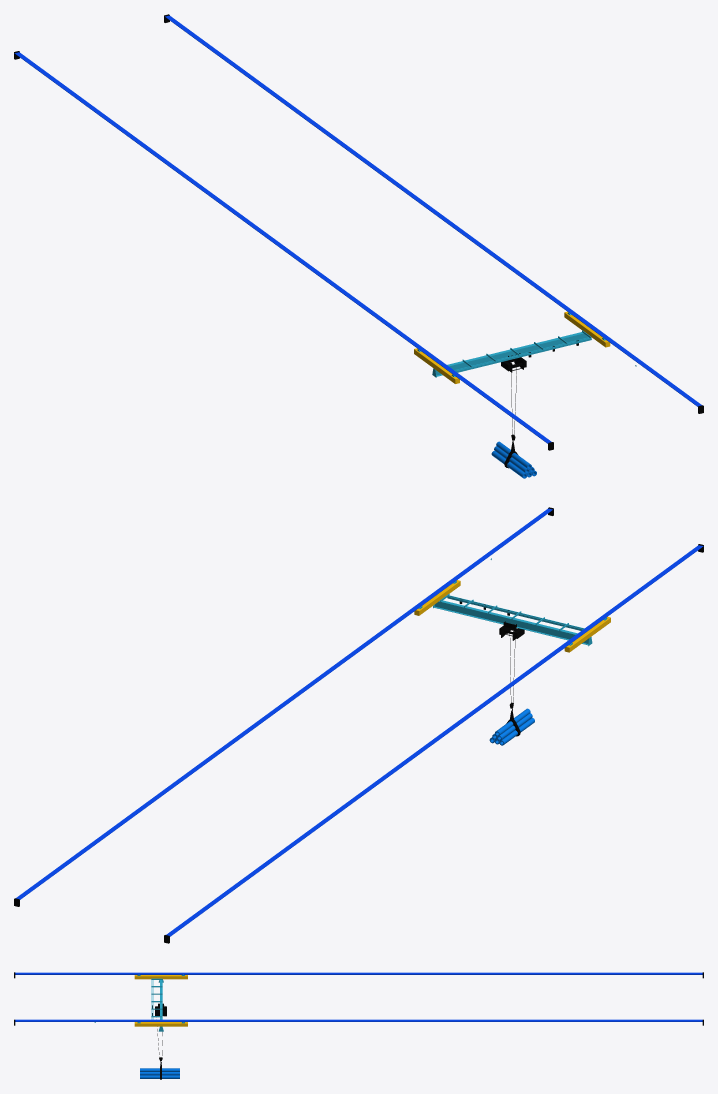
File: Crane_1Piece.fbx
The picture shows the model from 3 angles, top to bottom: view 1: azimuth 30°, elevation 25°; view 2: azimuth 150°, elevation 25°; view 3: azimuth 270°, elevation 25°; orthographic projection. The views are drawn at different scales.
Visible parts, largest first — view 1: Gentry Crane_02, Gentry Crane_11, Tube001; view 2: Gentry Crane_02, Gentry Crane_11, Tube001; view 3: Gentry Crane_02, Tube001, Gentry Crane_11, Gentry Crane_61, Gentry Crane_72.
Boxes of the visible parts, x1,y1,x2,y2 form: Gentry Crane_02: (14, 15, 701, 443); Gentry Crane_11: (432, 330, 591, 377); Tube001: (491, 441, 536, 478); Gentry Crane_02: (16, 508, 703, 936); Gentry Crane_11: (433, 594, 592, 646); Tube001: (489, 708, 534, 745); Gentry Crane_02: (15, 972, 702, 1021); Tube001: (140, 1068, 179, 1078); Gentry Crane_11: (151, 978, 163, 1031); Gentry Crane_61: (134, 1022, 187, 1026); Gentry Crane_72: (134, 975, 187, 979).
Bounding box in the file's own units: 4.61 × 3.55 × 27.5.
